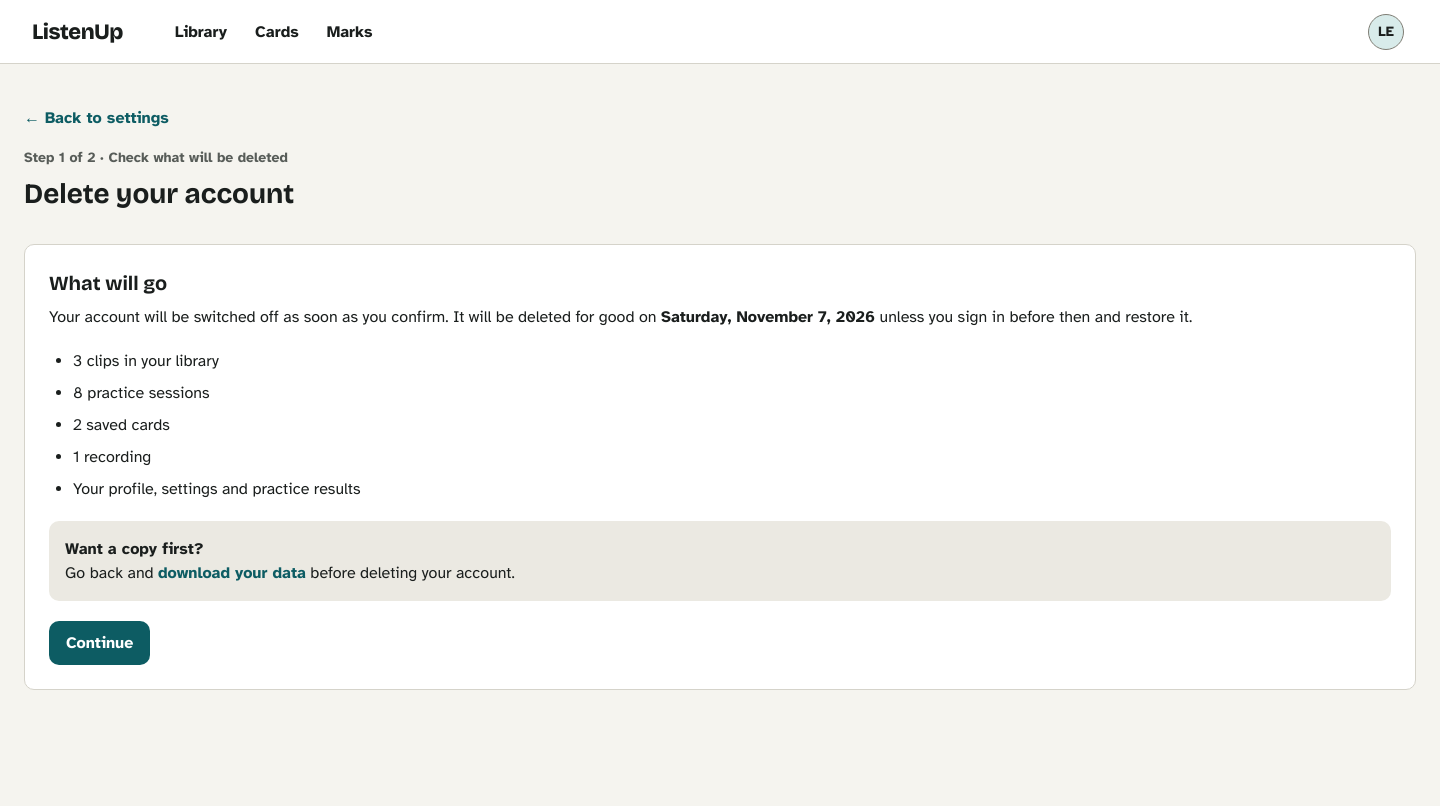
Test: another failure stays on confirmation with what to do next
Click the button "Continue": coordinates (100, 643) [49,621,150,665]
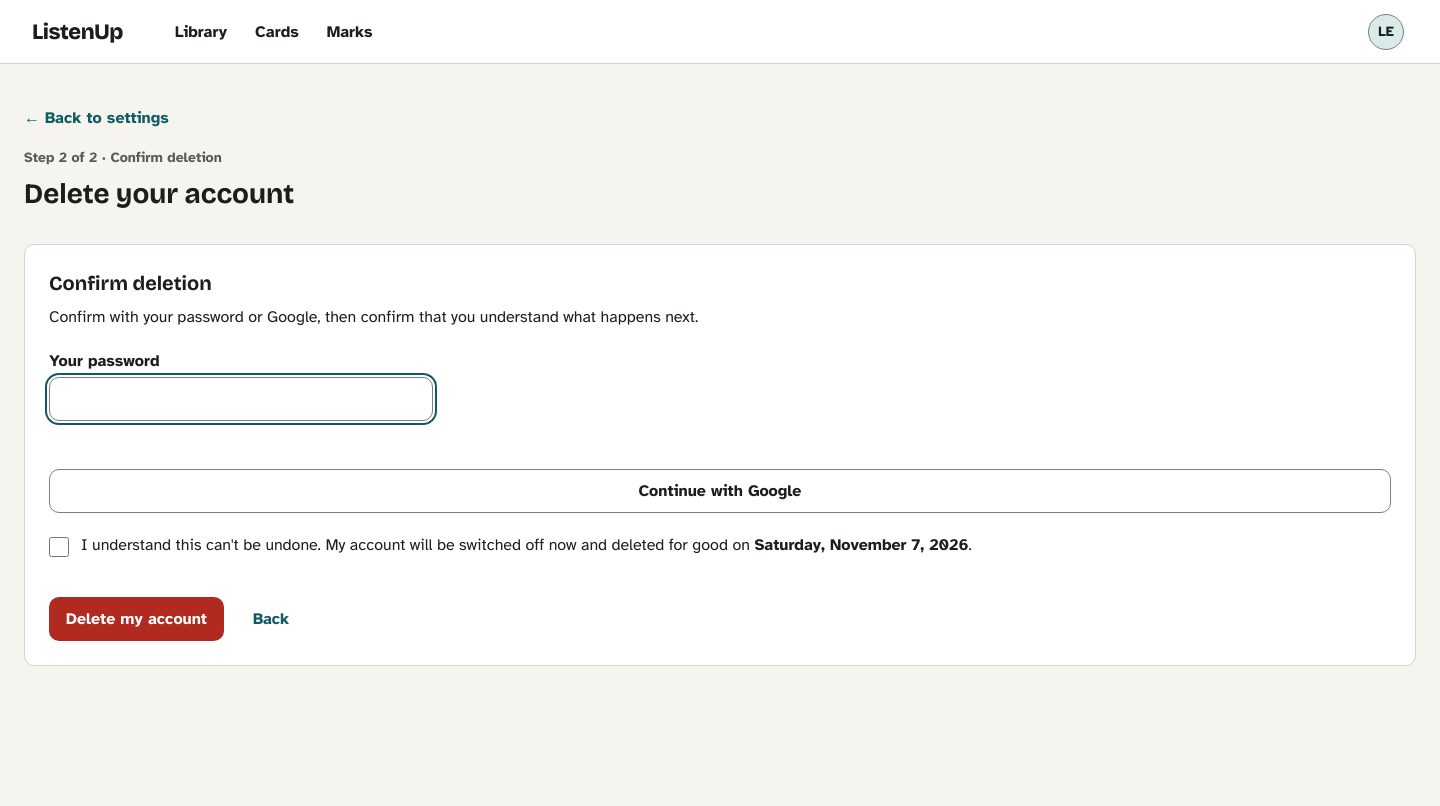
In the password field labelled "Your password": coordinates (241, 399) [49,377,433,421], type "correct horse"
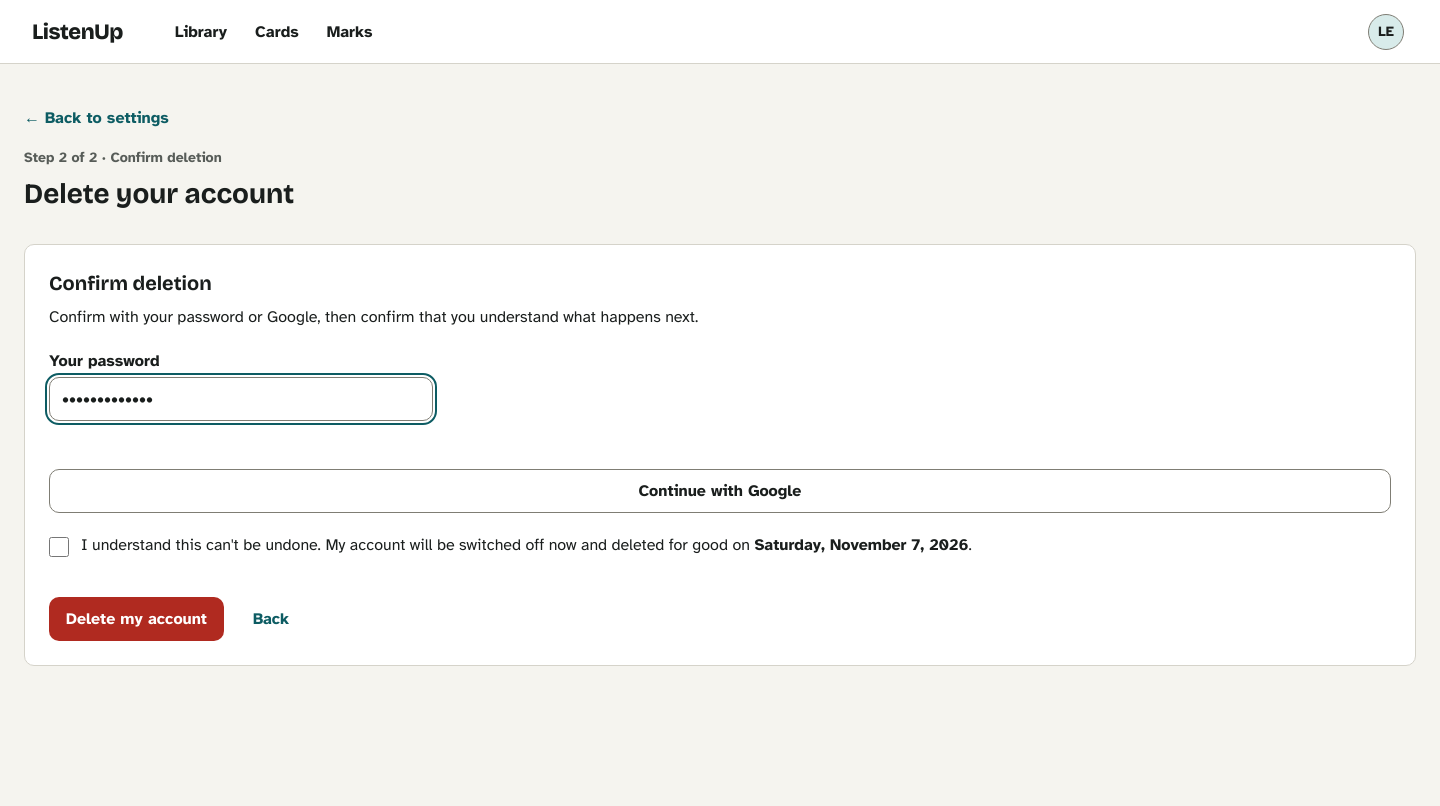
Click the checkbox labelled "I understand this can't be undone": coordinates (59, 547) [49,537,69,557]
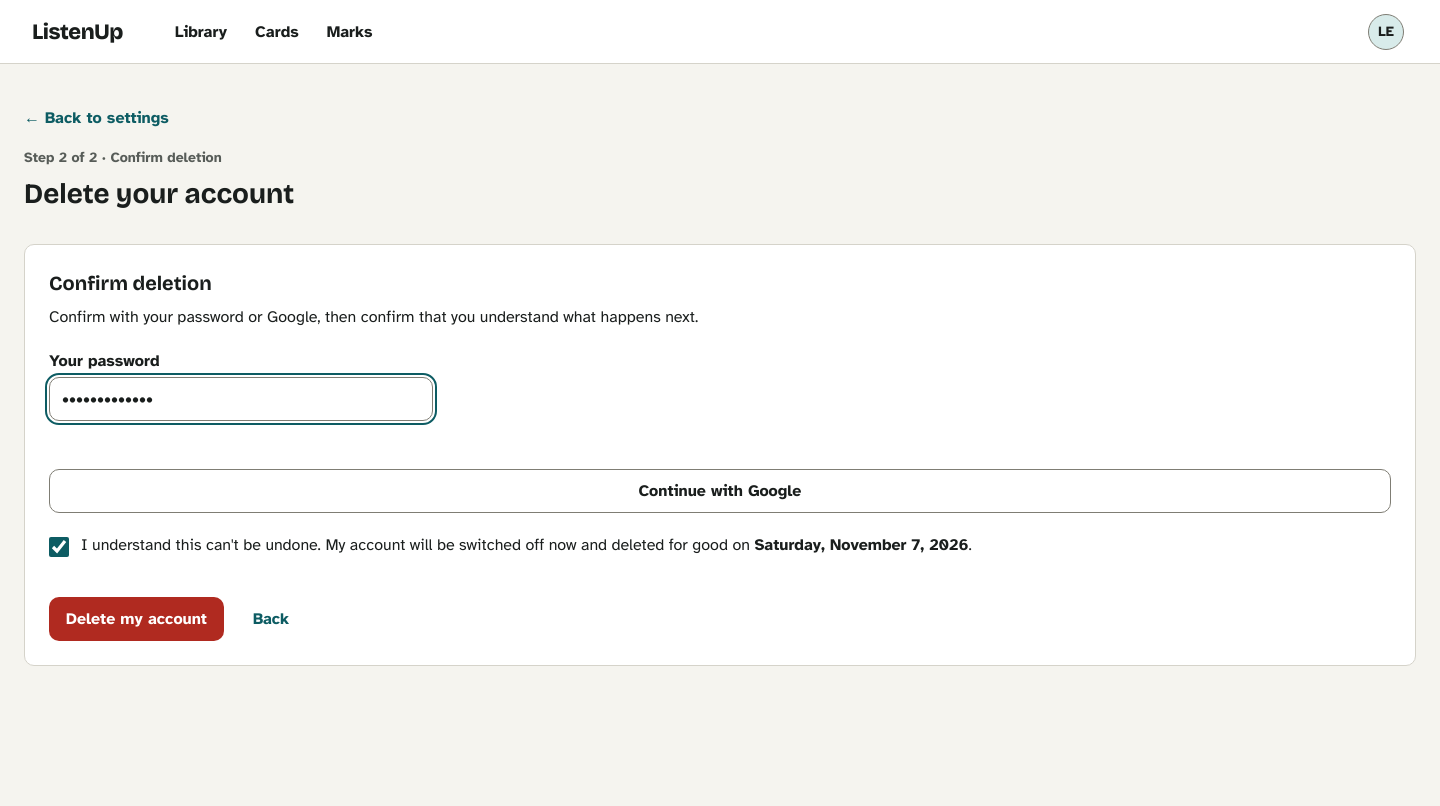
Click the button "Delete my account": coordinates (136, 619) [49,597,224,641]
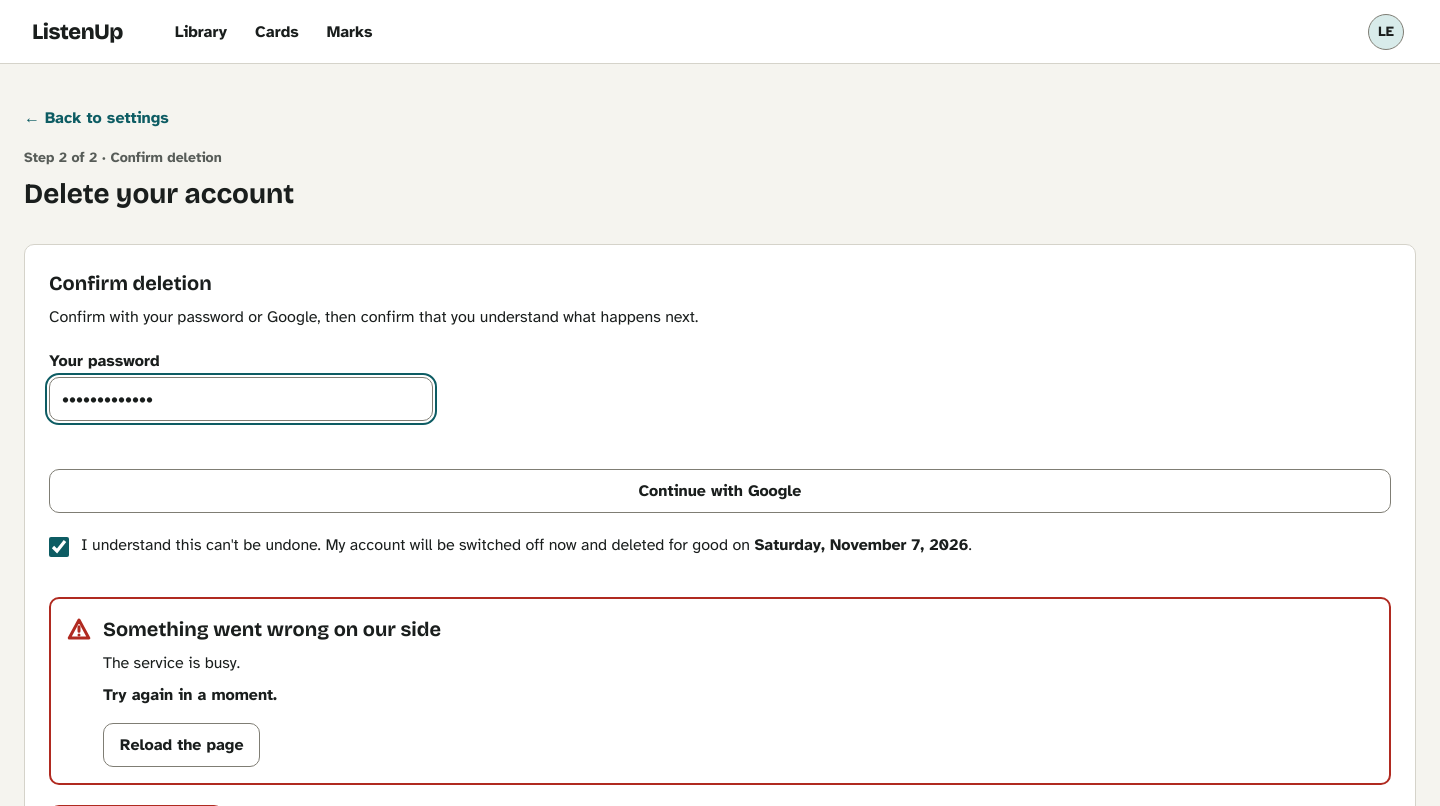
Check: the text "Step 2 of 2 · Confirm deletion" is shown, box [24,149,222,166]
Check: the text "The service is busy." is shown, box [103,651,240,675]
